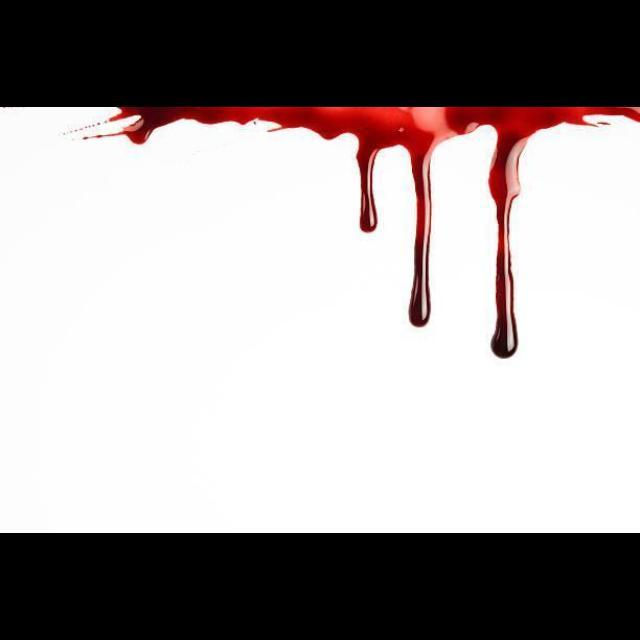blood: (111, 107, 639, 359)
